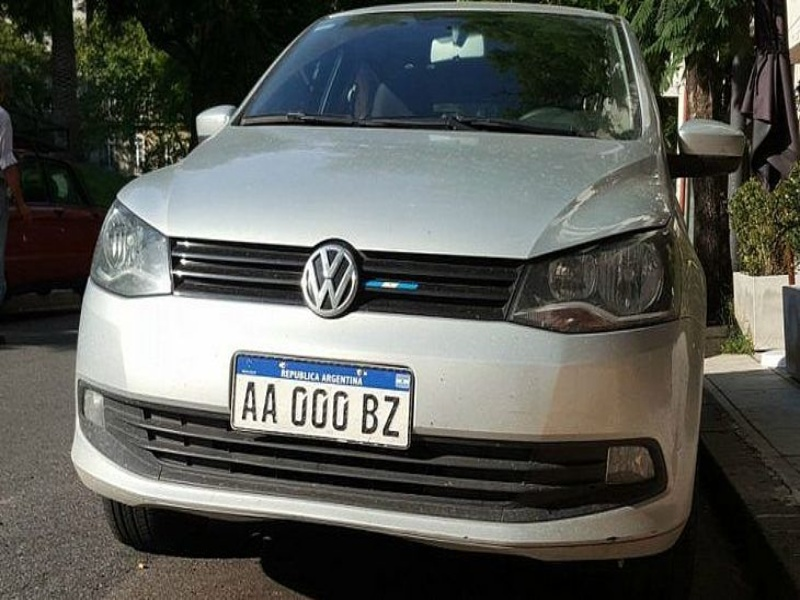placa: (229, 344, 416, 453)
